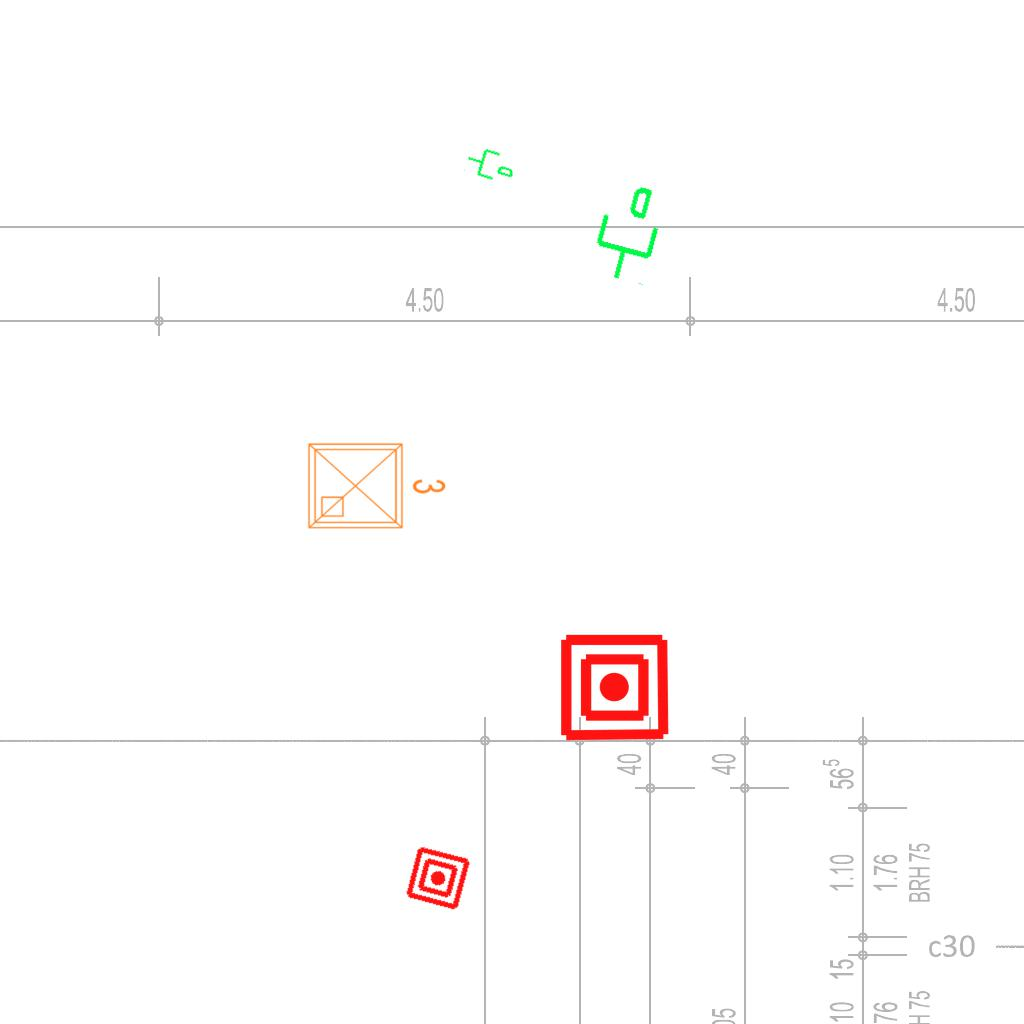Datenanschluss_einfach: (580, 174, 673, 290), (462, 140, 520, 188)
Einbaudownlights_LED_Konferenzraeume: (301, 432, 451, 536)
NAM-Nichtautomatischer_Melder: (558, 631, 671, 744), (403, 843, 473, 913)
